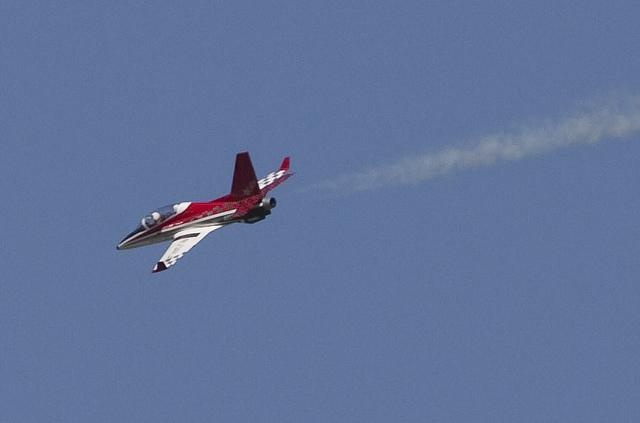airplane: (105, 149, 295, 275)
